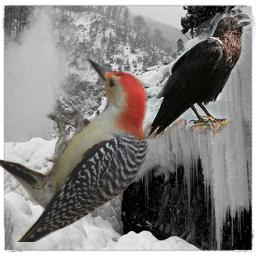Crow: (144, 12, 256, 139)
Woodpecker: (0, 56, 154, 242)
